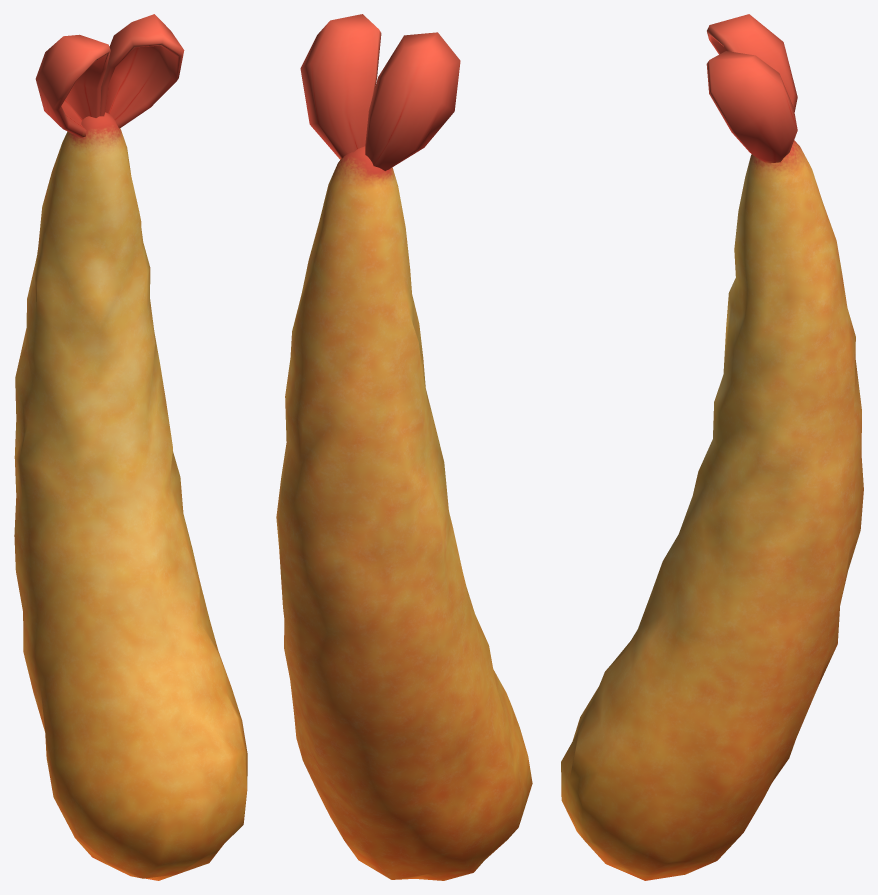
Rendered from ebifly.glb.
3 views of the same model, side by side, from view 1: azimuth 30°, elevation 25°; view 2: azimuth 150°, elevation 25°; view 3: azimuth 270°, elevation 25° (orthographic). The views are drawn at different scales.
Visible parts, largest first — view 1: Tempura; view 2: Tempura; view 3: Tempura.
Part boxes in pixels (<box>): Tempura: <box>14,14,247,880</box>; Tempura: <box>276,14,532,880</box>; Tempura: <box>561,14,863,880</box>.
Size of the model in its own units: 13.24 by 59.19 by 19.42.
1 material, 1 textured.
